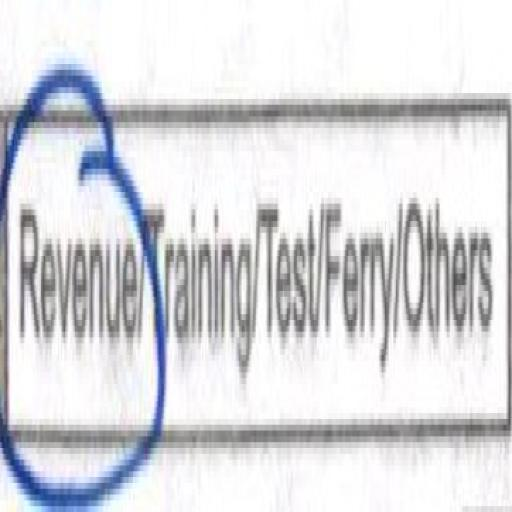check: (1, 43, 145, 506)
